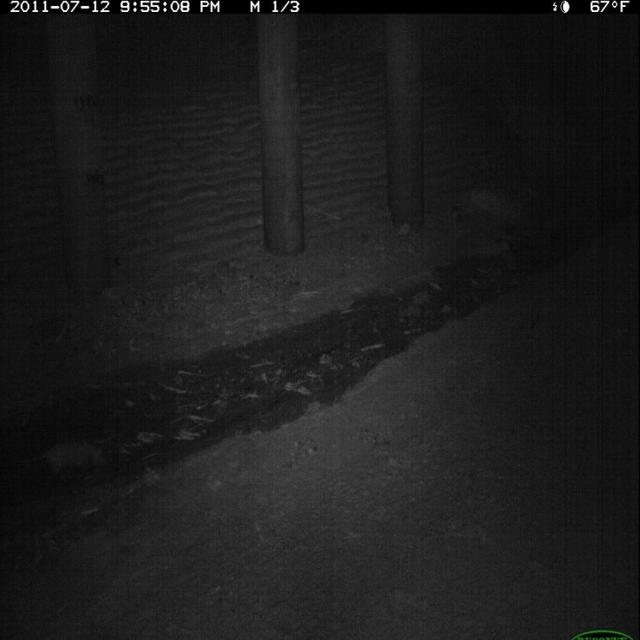opossum: (4, 434, 115, 484)
